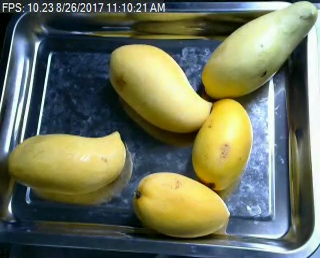Mango: (196, 0, 319, 105), (105, 41, 212, 134), (6, 128, 130, 194), (132, 171, 234, 240), (190, 95, 257, 187)
